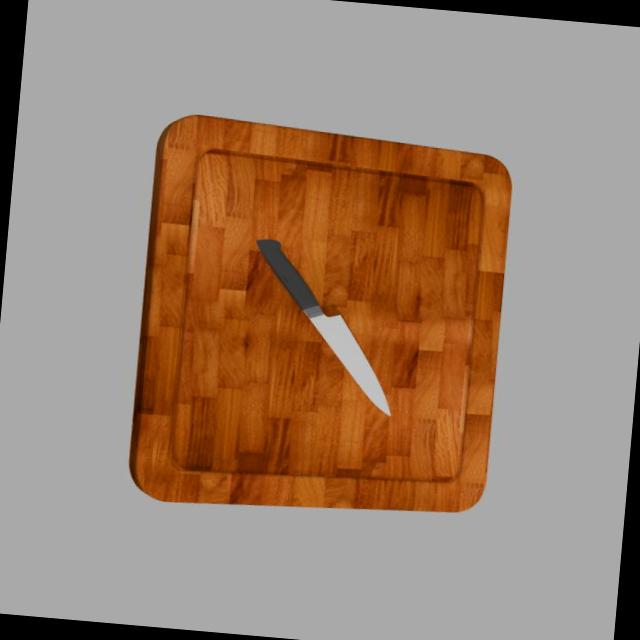knife: (244, 234, 324, 312)
